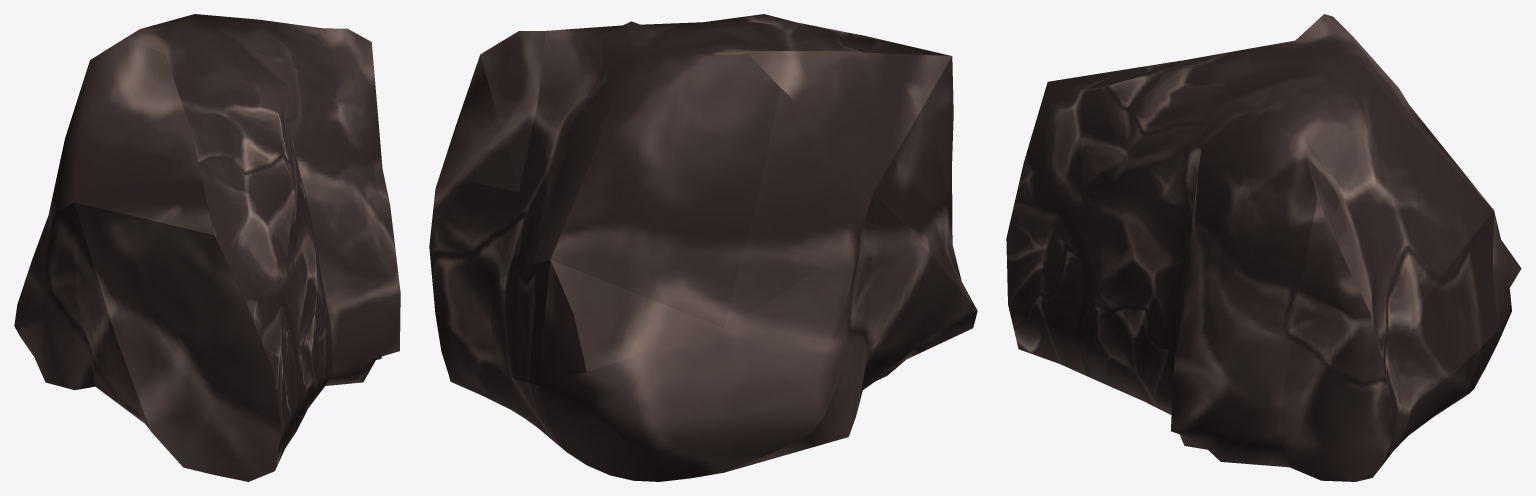
File: bigrock.fbx
3 views of the same model, side by side, from view 1: azimuth 30°, elevation 25°; view 2: azimuth 150°, elevation 25°; view 3: azimuth 270°, elevation 25° (orthographic). The views are drawn at different scales.
Visible parts, largest first — view 1: bigrock; view 2: bigrock; view 3: bigrock.
Part boxes in pixels (left/top/right/bottom): bigrock: left=14, top=14, right=400, bottom=481; bigrock: left=429, top=14, right=977, bottom=481; bigrock: left=1006, top=14, right=1521, bottom=481.
Size of the model in its own units: 364 by 339 by 451.
